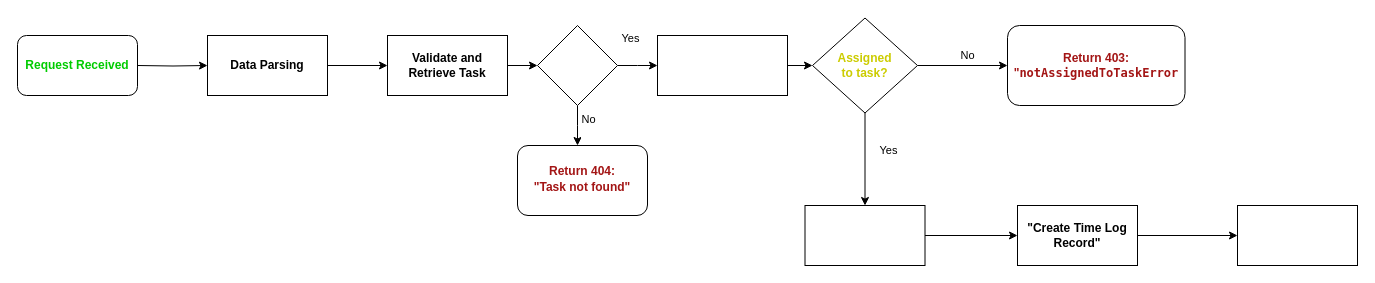
Some shapes in this 1375 by 283 pixel diagram are drawn without their labels. The shapes that lost their labels are listed below. From the top down, each one's centre as x and y in pixels, then its label:
[577,65]: Task exists?
[722,65]: Verify Employee Assignment to Task
[864,235]: Retrieve Project Id
[1297,235]: Response Sent
